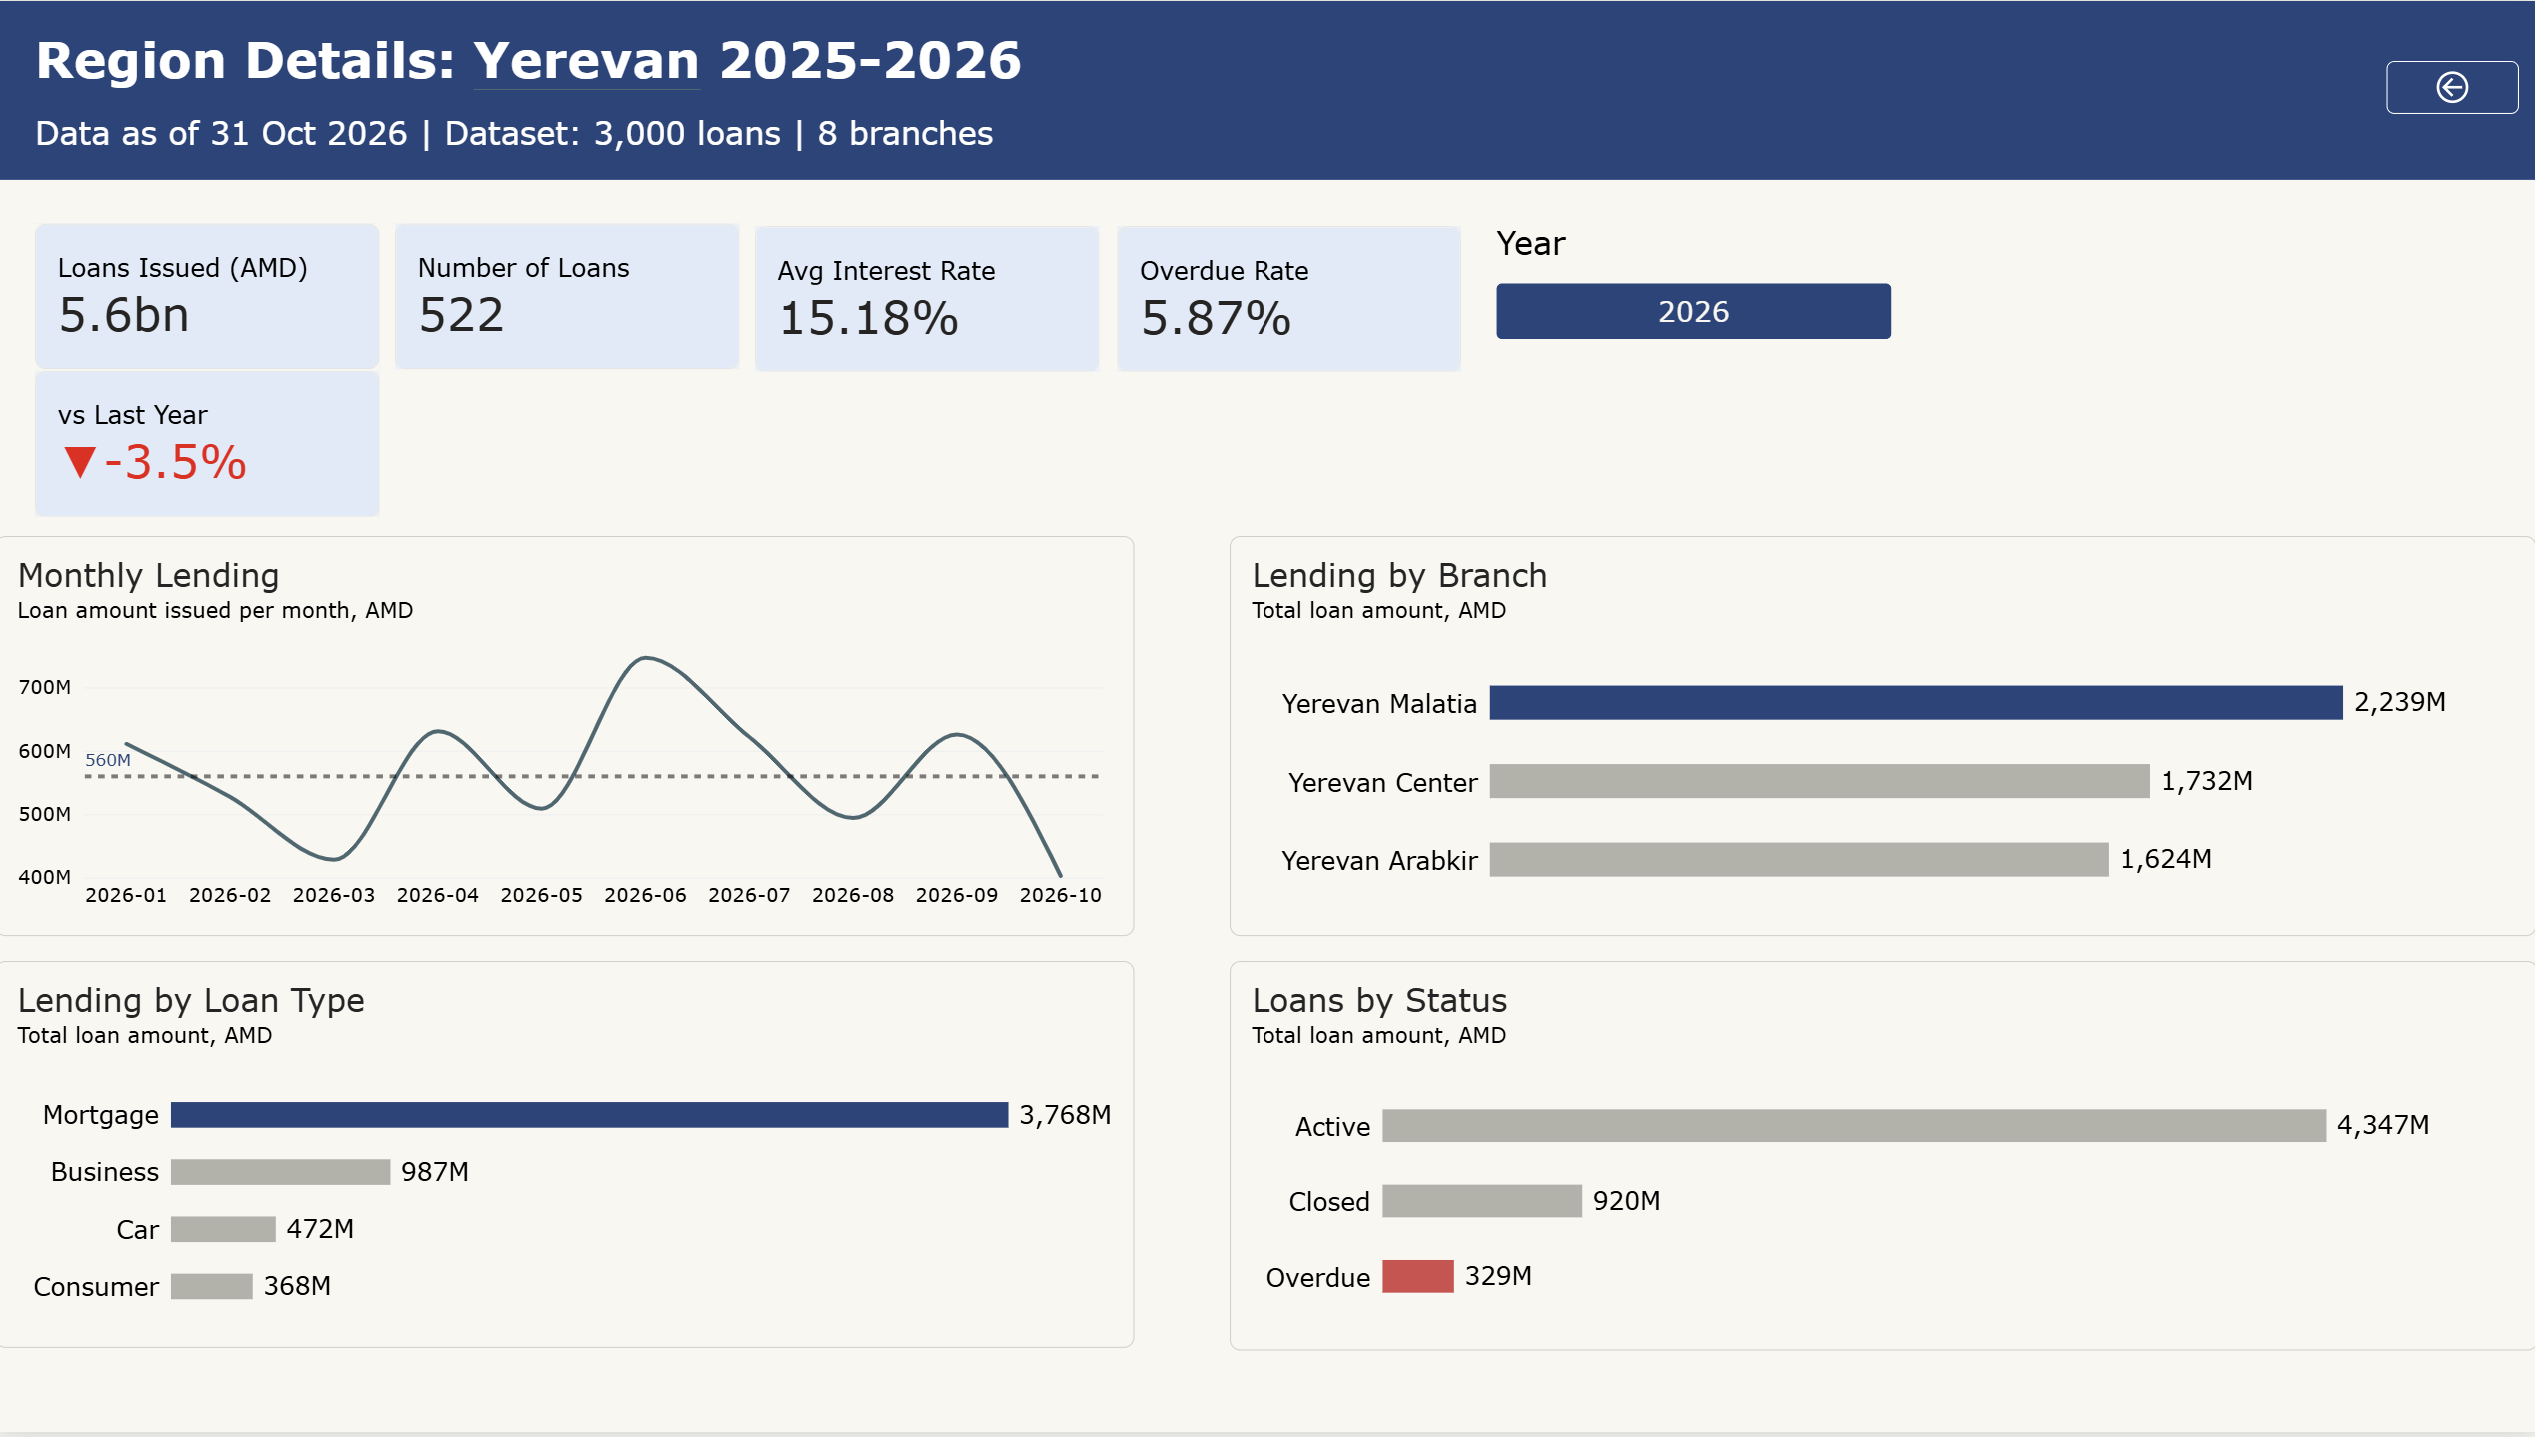

This screenshot's page, from the dashboard's own definition file:
{"tool":"powerbi","page":{"name":"Region details","canvas":[1920,1080],"ordinal":2},"visuals":[{"type":"shape","box":[0,0,1920,135],"z":0},{"type":"textbox","box":[30,20,1890,65],"z":1000},{"type":"cardVisual","fields":{"Data":["fact_loans.Loans Issued Text"]},"box":[30,168,260,110],"z":2000},{"type":"cardVisual","fields":{"Data":["fact_loans.Loans Count Text"]},"box":[302.2,168,260,110],"z":3000},{"type":"cardVisual","fields":{"Data":["fact_loans.Avg Rate Text"]},"box":[574.4,168.9,260,110],"z":4000},{"type":"cardVisual","fields":{"Data":["fact_loans.Overdue%"]},"box":[846.7,168.9,260,110],"z":5000},{"type":"lineChart","title":"Monthly Lending ","fields":{"Category":["Dates.Year Month"],"Y":["fact_loans.Total loans"]},"box":[0,404.4,860,302],"z":6000},{"type":"barChart","title":"Lending by Branch ","fields":{"Category":["dim_branches.BranchName"],"Y":["fact_loans.Total loans"]},"box":[932.1,403.8,986.8,301.9],"z":7000},{"type":"advancedSlicerVisual","fields":{"Values":["Dates.Year"]},"box":[1134,168,298,88],"z":8000},{"type":"textbox","box":[30.4,85.1,1338.7,32.4],"z":9000},{"type":"cardVisual","fields":{"Data":["fact_loans.YoY Label"]},"box":[31.1,280,260,110],"z":10000},{"type":"clusteredBarChart","title":"Lending by Loan Type ","fields":{"Category":["fact_loans.LoanType"],"Y":["fact_loans.Total loans"]},"box":[0,724,860,292],"z":11000},{"type":"clusteredBarChart","title":"Loans by Status ","fields":{"Category":["fact_loans.Status"],"Y":["fact_loans.Total loans"]},"box":[932,724,988,294],"z":12000},{"type":"actionButton","box":[1805.7,45.3,100,40],"z":13000}]}

Visuals, with their boxes in screenshot pixels (x1, y1, x2, y2), scaled from the page's 1920x1080 canvas onto the 2535x1437 screenshot:
shape: 0:0:2534:180
textbox: 40:27:2534:113
cardVisual - fact_loans.Loans Issued Text: 40:224:383:370
cardVisual - fact_loans.Loans Count Text: 399:224:742:370
cardVisual - fact_loans.Avg Rate Text: 758:225:1102:371
cardVisual - fact_loans.Overdue%: 1118:225:1461:371
"Monthly Lending " lineChart: 0:538:1135:940
"Lending by Branch " barChart: 1231:537:2534:939
advancedSlicerVisual - Dates.Year: 1497:224:1891:341
textbox: 40:113:1808:156
cardVisual - fact_loans.YoY Label: 41:373:384:519
"Lending by Loan Type " clusteredBarChart: 0:963:1135:1352
"Loans by Status " clusteredBarChart: 1231:963:2534:1355
actionButton: 2384:60:2516:113
